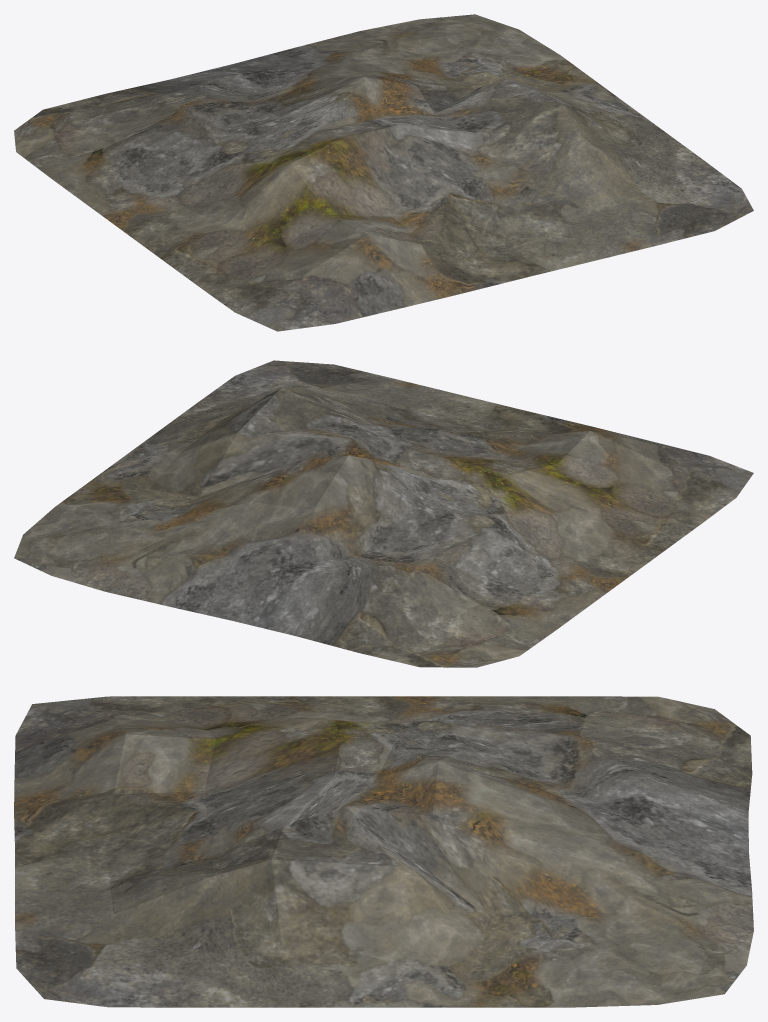
File: wreckage_1.gltf
3 renders of one model, top to bottom at view 1: azimuth 30°, elevation 25°; view 2: azimuth 150°, elevation 25°; view 3: azimuth 270°, elevation 25°, orthographic. The views are drawn at different scales.
Visible parts, largest first — view 1: wreckage_1; view 2: wreckage_1; view 3: wreckage_1.
Boxes of the visible parts, x1=… form: wreckage_1: x1=14, y1=14, x2=753, y2=331; wreckage_1: x1=14, y1=360, x2=753, y2=667; wreckage_1: x1=14, y1=696, x2=753, y2=1007.
Bounding box in the file's own units: 20.01 × 2.84 × 20.08.
Materials: 1 (1 with a texture image).
